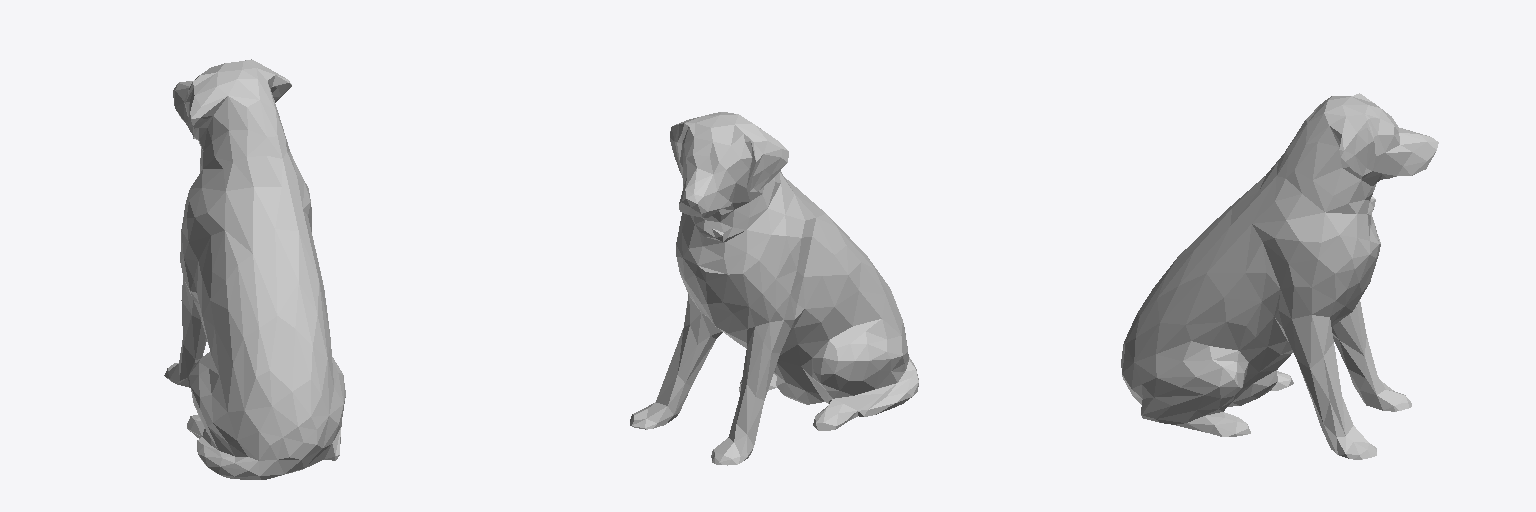
File: gog.obj
3 renders of one model, left to right at view 1: azimuth 30°, elevation 25°; view 2: azimuth 150°, elevation 25°; view 3: azimuth 270°, elevation 25°, orthographic.
Parts seen in each view (by area): view 1: LabradorLowPoly.stl; view 2: LabradorLowPoly.stl; view 3: LabradorLowPoly.stl.
Part boxes in pixels (x1,y1,x2,y2): LabradorLowPoly.stl: (164,59,345,479); LabradorLowPoly.stl: (630,112,918,465); LabradorLowPoly.stl: (1121,93,1438,459).
Size of the model in its own units: 72.47 by 114 by 103.